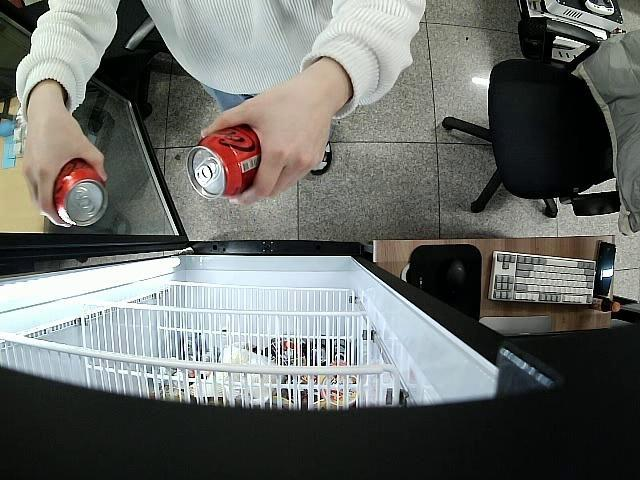11_cocaColaZero: (185, 122, 262, 201), (52, 157, 108, 225)
